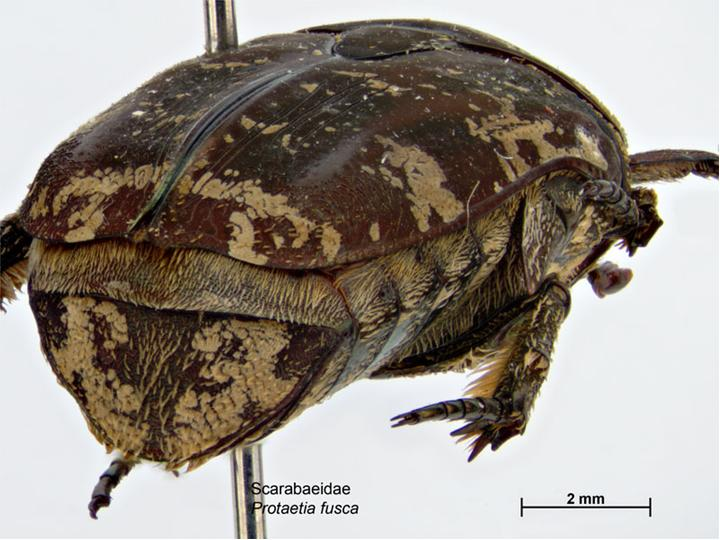Protaetia_fusca: (4, 13, 712, 522)
